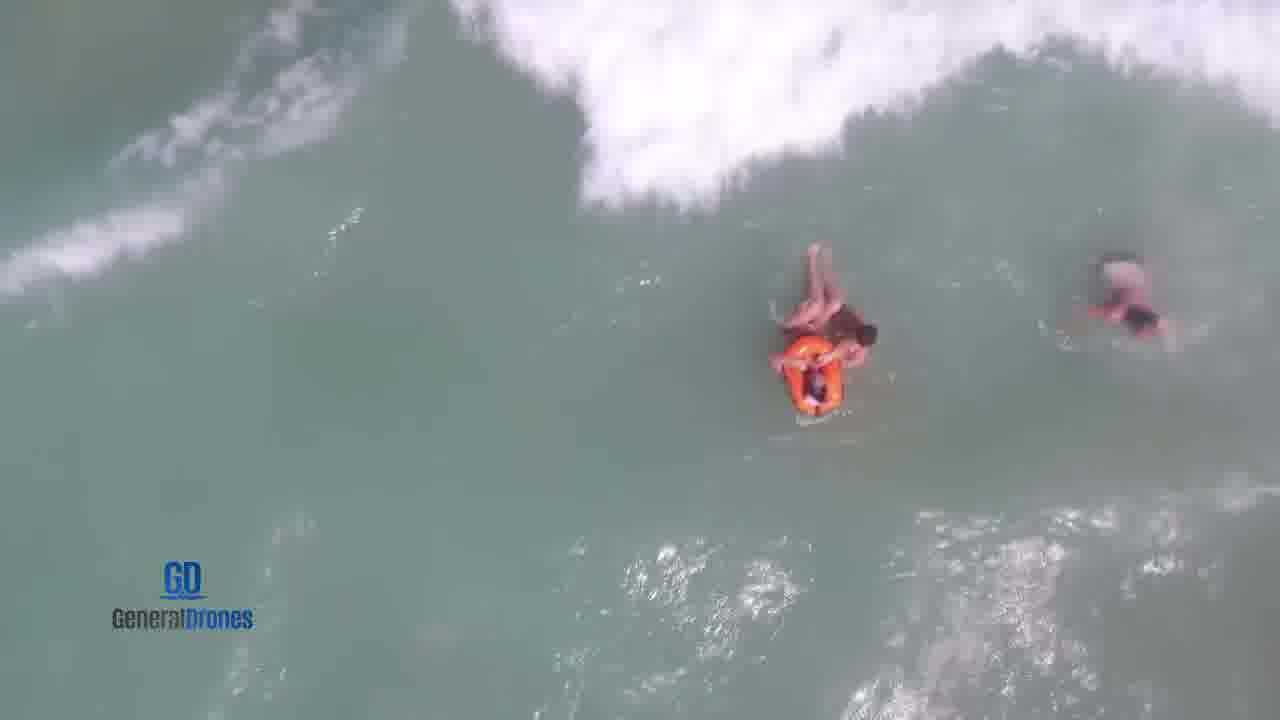swimmer: (778, 235, 849, 406), (1064, 241, 1170, 338), (825, 297, 884, 366)
